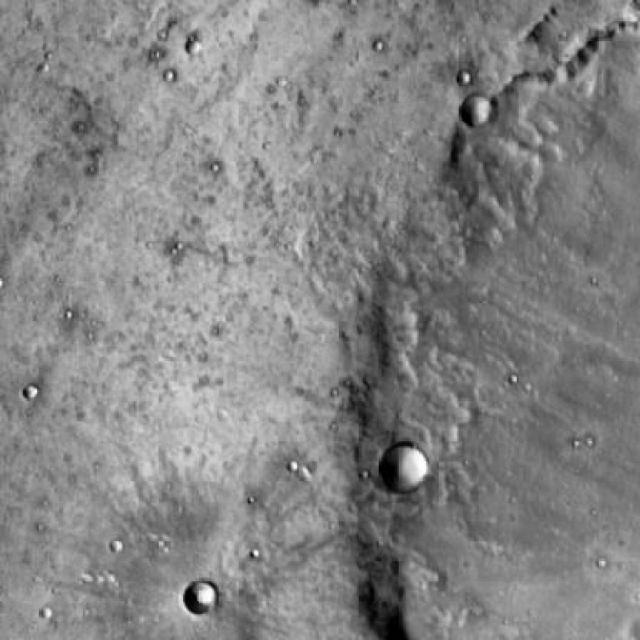crater: (395, 456, 443, 504), (202, 590, 233, 622), (480, 106, 508, 134)
